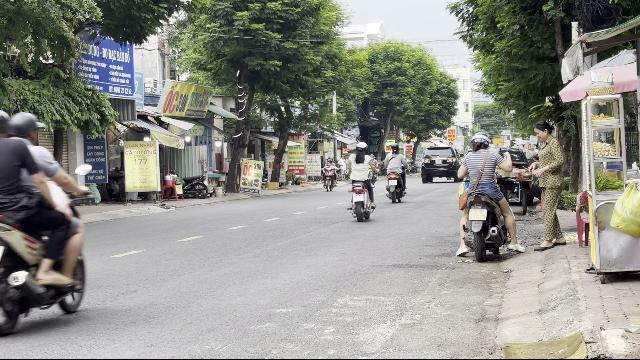helmet: (8, 112, 40, 144), (470, 133, 490, 151)
licenseplate: (469, 210, 487, 220)
motorcyclist: (0, 107, 92, 338), (452, 131, 520, 261)
